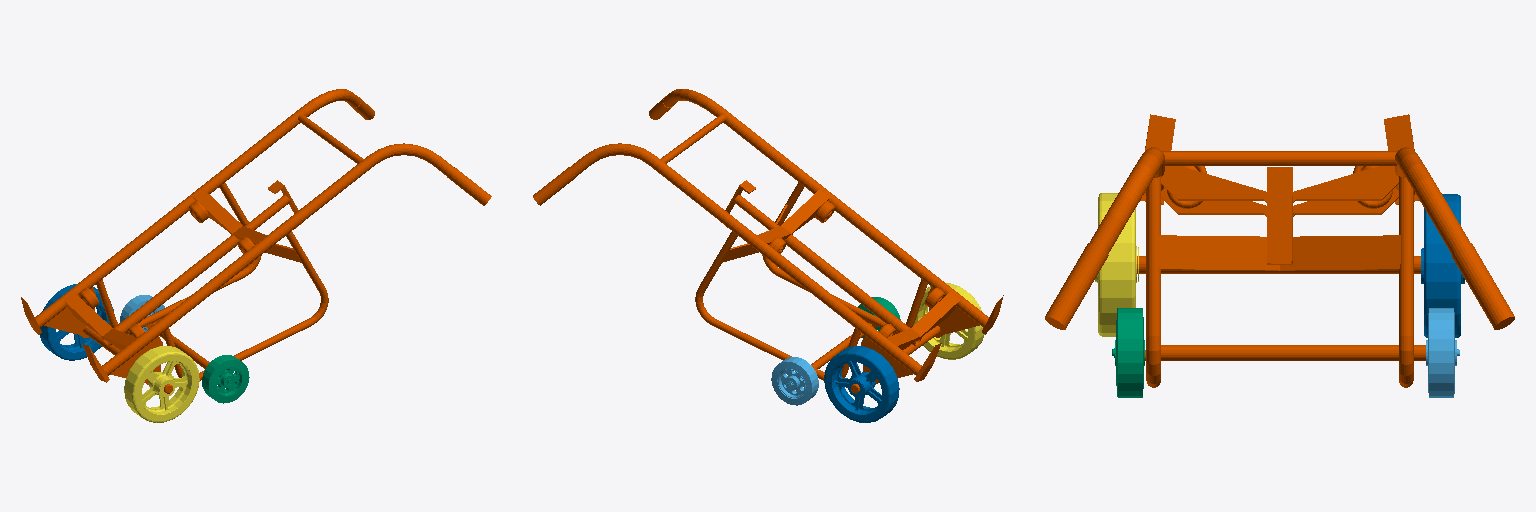
The robot description file, URDF, robot "partnet_564637510e807c32b229726a165222c0":
<?xml version="1.0" ?>
<robot name="partnet_564637510e807c32b229726a165222c0">
	<link name="base"/>
	<link name="link_0">
		<visual name="wheel-1">
			<origin xyz="0 0.20278317981185587 -0.022270345416668984"/>
			<geometry>
				<mesh filename="textured_objs/original-57.obj"/>
			</geometry>
		</visual>
		<visual name="wheel-1">
			<origin xyz="0 0.20278317981185587 -0.022270345416668984"/>
			<geometry>
				<mesh filename="textured_objs/original-54.obj"/>
			</geometry>
		</visual>
		<visual name="wheel-1">
			<origin xyz="0 0.20278317981185587 -0.022270345416668984"/>
			<geometry>
				<mesh filename="textured_objs/original-56.obj"/>
			</geometry>
		</visual>
		<collision>
			<origin xyz="0 0.20278317981185587 -0.022270345416668984"/>
			<geometry>
				<mesh filename="textured_objs/original-57.obj"/>
			</geometry>
		</collision>
		<collision>
			<origin xyz="0 0.20278317981185587 -0.022270345416668984"/>
			<geometry>
				<mesh filename="textured_objs/original-54.obj"/>
			</geometry>
		</collision>
		<collision>
			<origin xyz="0 0.20278317981185587 -0.022270345416668984"/>
			<geometry>
				<mesh filename="textured_objs/original-56.obj"/>
			</geometry>
		</collision>
	</link>
	<joint name="joint_0" type="continuous">
		<origin xyz="0 -0.20278317981185587 0.022270345416668984"/>
		<axis xyz="1 0 0"/>
		<child link="link_0"/>
		<parent link="link_4"/>
	</joint>
	<link name="link_1">
		<visual name="wheel-2">
			<origin xyz="0 0.20278317981185587 -0.022270345416668984"/>
			<geometry>
				<mesh filename="textured_objs/original-61.obj"/>
			</geometry>
		</visual>
		<visual name="wheel-2">
			<origin xyz="0 0.20278317981185587 -0.022270345416668984"/>
			<geometry>
				<mesh filename="textured_objs/original-59.obj"/>
			</geometry>
		</visual>
		<visual name="wheel-2">
			<origin xyz="0 0.20278317981185587 -0.022270345416668984"/>
			<geometry>
				<mesh filename="textured_objs/original-63.obj"/>
			</geometry>
		</visual>
		<visual name="wheel-2">
			<origin xyz="0 0.20278317981185587 -0.022270345416668984"/>
			<geometry>
				<mesh filename="textured_objs/original-64.obj"/>
			</geometry>
		</visual>
		<collision>
			<origin xyz="0 0.20278317981185587 -0.022270345416668984"/>
			<geometry>
				<mesh filename="textured_objs/original-61.obj"/>
			</geometry>
		</collision>
		<collision>
			<origin xyz="0 0.20278317981185587 -0.022270345416668984"/>
			<geometry>
				<mesh filename="textured_objs/original-59.obj"/>
			</geometry>
		</collision>
		<collision>
			<origin xyz="0 0.20278317981185587 -0.022270345416668984"/>
			<geometry>
				<mesh filename="textured_objs/original-63.obj"/>
			</geometry>
		</collision>
		<collision>
			<origin xyz="0 0.20278317981185587 -0.022270345416668984"/>
			<geometry>
				<mesh filename="textured_objs/original-64.obj"/>
			</geometry>
		</collision>
	</link>
	<joint name="joint_1" type="continuous">
		<origin xyz="0 -0.20278317981185587 0.022270345416668984"/>
		<axis xyz="1 0 0"/>
		<child link="link_1"/>
		<parent link="link_4"/>
	</joint>
	<link name="link_2">
		<visual name="wheel-3">
			<origin xyz="0 0.15423131700984627 -0.269820613138647"/>
			<geometry>
				<mesh filename="textured_objs/original-25.obj"/>
			</geometry>
		</visual>
		<visual name="wheel-3">
			<origin xyz="0 0.15423131700984627 -0.269820613138647"/>
			<geometry>
				<mesh filename="textured_objs/original-24.obj"/>
			</geometry>
		</visual>
		<visual name="wheel-3">
			<origin xyz="0 0.15423131700984627 -0.269820613138647"/>
			<geometry>
				<mesh filename="textured_objs/original-23.obj"/>
			</geometry>
		</visual>
		<visual name="wheel-3">
			<origin xyz="0 0.15423131700984627 -0.269820613138647"/>
			<geometry>
				<mesh filename="textured_objs/original-22.obj"/>
			</geometry>
		</visual>
		<collision>
			<origin xyz="0 0.15423131700984627 -0.269820613138647"/>
			<geometry>
				<mesh filename="textured_objs/original-25.obj"/>
			</geometry>
		</collision>
		<collision>
			<origin xyz="0 0.15423131700984627 -0.269820613138647"/>
			<geometry>
				<mesh filename="textured_objs/original-24.obj"/>
			</geometry>
		</collision>
		<collision>
			<origin xyz="0 0.15423131700984627 -0.269820613138647"/>
			<geometry>
				<mesh filename="textured_objs/original-23.obj"/>
			</geometry>
		</collision>
		<collision>
			<origin xyz="0 0.15423131700984627 -0.269820613138647"/>
			<geometry>
				<mesh filename="textured_objs/original-22.obj"/>
			</geometry>
		</collision>
	</link>
	<joint name="joint_2" type="continuous">
		<origin xyz="0 -0.15423131700984627 0.269820613138647"/>
		<axis xyz="1 0 0"/>
		<child link="link_2"/>
		<parent link="link_4"/>
	</joint>
	<link name="link_3">
		<visual name="wheel-4">
			<origin xyz="0 0.15423131700984627 -0.269820613138647"/>
			<geometry>
				<mesh filename="textured_objs/original-19.obj"/>
			</geometry>
		</visual>
		<visual name="wheel-4">
			<origin xyz="0 0.15423131700984627 -0.269820613138647"/>
			<geometry>
				<mesh filename="textured_objs/original-18.obj"/>
			</geometry>
		</visual>
		<visual name="wheel-4">
			<origin xyz="0 0.15423131700984627 -0.269820613138647"/>
			<geometry>
				<mesh filename="textured_objs/original-16.obj"/>
			</geometry>
		</visual>
		<visual name="wheel-4">
			<origin xyz="0 0.15423131700984627 -0.269820613138647"/>
			<geometry>
				<mesh filename="textured_objs/original-17.obj"/>
			</geometry>
		</visual>
		<collision>
			<origin xyz="0 0.15423131700984627 -0.269820613138647"/>
			<geometry>
				<mesh filename="textured_objs/original-19.obj"/>
			</geometry>
		</collision>
		<collision>
			<origin xyz="0 0.15423131700984627 -0.269820613138647"/>
			<geometry>
				<mesh filename="textured_objs/original-18.obj"/>
			</geometry>
		</collision>
		<collision>
			<origin xyz="0 0.15423131700984627 -0.269820613138647"/>
			<geometry>
				<mesh filename="textured_objs/original-16.obj"/>
			</geometry>
		</collision>
		<collision>
			<origin xyz="0 0.15423131700984627 -0.269820613138647"/>
			<geometry>
				<mesh filename="textured_objs/original-17.obj"/>
			</geometry>
		</collision>
	</link>
	<joint name="joint_3" type="continuous">
		<origin xyz="0 -0.15423131700984627 0.269820613138647"/>
		<axis xyz="1 0 0"/>
		<child link="link_3"/>
		<parent link="link_4"/>
	</joint>
	<link name="link_4">
		<visual name="base_body-5">
			<origin xyz="0 0 0"/>
			<geometry>
				<mesh filename="textured_objs/original-29.obj"/>
			</geometry>
		</visual>
		<visual name="base_body-5">
			<origin xyz="0 0 0"/>
			<geometry>
				<mesh filename="textured_objs/original-36.obj"/>
			</geometry>
		</visual>
		<visual name="base_body-5">
			<origin xyz="0 0 0"/>
			<geometry>
				<mesh filename="textured_objs/original-28.obj"/>
			</geometry>
		</visual>
		<visual name="base_body-5">
			<origin xyz="0 0 0"/>
			<geometry>
				<mesh filename="textured_objs/original-43.obj"/>
			</geometry>
		</visual>
		<visual name="base_body-5">
			<origin xyz="0 0 0"/>
			<geometry>
				<mesh filename="textured_objs/original-71.obj"/>
			</geometry>
		</visual>
		<visual name="base_body-5">
			<origin xyz="0 0 0"/>
			<geometry>
				<mesh filename="textured_objs/original-52.obj"/>
			</geometry>
		</visual>
		<visual name="base_body-5">
			<origin xyz="0 0 0"/>
			<geometry>
				<mesh filename="textured_objs/original-26.obj"/>
			</geometry>
		</visual>
		<visual name="base_body-5">
			<origin xyz="0 0 0"/>
			<geometry>
				<mesh filename="textured_objs/original-4.obj"/>
			</geometry>
		</visual>
		<visual name="base_body-5">
			<origin xyz="0 0 0"/>
			<geometry>
				<mesh filename="textured_objs/original-3.obj"/>
			</geometry>
		</visual>
		<visual name="base_body-5">
			<origin xyz="0 0 0"/>
			<geometry>
				<mesh filename="textured_objs/original-65.obj"/>
			</geometry>
		</visual>
		<visual name="base_body-5">
			<origin xyz="0 0 0"/>
			<geometry>
				<mesh filename="textured_objs/original-33.obj"/>
			</geometry>
		</visual>
		<visual name="base_body-5">
			<origin xyz="0 0 0"/>
			<geometry>
				<mesh filename="textured_objs/original-44.obj"/>
			</geometry>
		</visual>
		<visual name="base_body-5">
			<origin xyz="0 0 0"/>
			<geometry>
				<mesh filename="textured_objs/original-8.obj"/>
			</geometry>
		</visual>
		<visual name="base_body-5">
			<origin xyz="0 0 0"/>
			<geometry>
				<mesh filename="textured_objs/original-13.obj"/>
			</geometry>
		</visual>
		<visual name="base_body-5">
			<origin xyz="0 0 0"/>
			<geometry>
				<mesh filename="textured_objs/original-9.obj"/>
			</geometry>
		</visual>
		<visual name="base_body-5">
			<origin xyz="0 0 0"/>
			<geometry>
				<mesh filename="textured_objs/original-45.obj"/>
			</geometry>
		</visual>
		<visual name="base_body-5">
			<origin xyz="0 0 0"/>
			<geometry>
				<mesh filename="textured_objs/original-35.obj"/>
			</geometry>
		</visual>
		<visual name="base_body-5">
			<origin xyz="0 0 0"/>
			<geometry>
				<mesh filename="textured_objs/original-39.obj"/>
			</geometry>
		</visual>
		<visual name="base_body-5">
			<origin xyz="0 0 0"/>
			<geometry>
				<mesh filename="textured_objs/original-27.obj"/>
			</geometry>
		</visual>
		<visual name="base_body-5">
			<origin xyz="0 0 0"/>
			<geometry>
				<mesh filename="textured_objs/original-51.obj"/>
			</geometry>
		</visual>
		<visual name="base_body-5">
			<origin xyz="0 0 0"/>
			<geometry>
				<mesh filename="textured_objs/original-50.obj"/>
			</geometry>
		</visual>
		<visual name="base_body-5">
			<origin xyz="0 0 0"/>
			<geometry>
				<mesh filename="textured_objs/original-66.obj"/>
			</geometry>
		</visual>
		<visual name="base_body-5">
			<origin xyz="0 0 0"/>
			<geometry>
				<mesh filename="textured_objs/original-67.obj"/>
			</geometry>
		</visual>
		<visual name="base_body-5">
			<origin xyz="0 0 0"/>
			<geometry>
				<mesh filename="textured_objs/original-11.obj"/>
			</geometry>
		</visual>
		<visual name="base_body-5">
			<origin xyz="0 0 0"/>
			<geometry>
				<mesh filename="textured_objs/original-68.obj"/>
			</geometry>
		</visual>
		<visual name="base_body-5">
			<origin xyz="0 0 0"/>
			<geometry>
				<mesh filename="textured_objs/original-70.obj"/>
			</geometry>
		</visual>
		<visual name="base_body-5">
			<origin xyz="0 0 0"/>
			<geometry>
				<mesh filename="textured_objs/original-12.obj"/>
			</geometry>
		</visual>
		<visual name="base_body-5">
			<origin xyz="0 0 0"/>
			<geometry>
				<mesh filename="textured_objs/original-42.obj"/>
			</geometry>
		</visual>
		<visual name="base_body-5">
			<origin xyz="0 0 0"/>
			<geometry>
				<mesh filename="textured_objs/original-32.obj"/>
			</geometry>
		</visual>
		<visual name="base_body-5">
			<origin xyz="0 0 0"/>
			<geometry>
				<mesh filename="textured_objs/original-47.obj"/>
			</geometry>
		</visual>
		<visual name="base_body-5">
			<origin xyz="0 0 0"/>
			<geometry>
				<mesh filename="textured_objs/original-40.obj"/>
			</geometry>
		</visual>
		<visual name="base_body-5">
			<origin xyz="0 0 0"/>
			<geometry>
				<mesh filename="textured_objs/original-46.obj"/>
			</geometry>
		</visual>
		<collision>
			<origin xyz="0 0 0"/>
			<geometry>
				<mesh filename="textured_objs/original-29.obj"/>
			</geometry>
		</collision>
		<collision>
			<origin xyz="0 0 0"/>
			<geometry>
				<mesh filename="textured_objs/original-36.obj"/>
			</geometry>
		</collision>
		<collision>
			<origin xyz="0 0 0"/>
			<geometry>
				<mesh filename="textured_objs/original-28.obj"/>
			</geometry>
		</collision>
		<collision>
			<origin xyz="0 0 0"/>
			<geometry>
				<mesh filename="textured_objs/original-43.obj"/>
			</geometry>
		</collision>
		<collision>
			<origin xyz="0 0 0"/>
			<geometry>
				<mesh filename="textured_objs/original-71.obj"/>
			</geometry>
		</collision>
		<collision>
			<origin xyz="0 0 0"/>
			<geometry>
				<mesh filename="textured_objs/original-52.obj"/>
			</geometry>
		</collision>
		<collision>
			<origin xyz="0 0 0"/>
			<geometry>
				<mesh filename="textured_objs/original-26.obj"/>
			</geometry>
		</collision>
		<collision>
			<origin xyz="0 0 0"/>
			<geometry>
				<mesh filename="textured_objs/original-4.obj"/>
			</geometry>
		</collision>
		<collision>
			<origin xyz="0 0 0"/>
			<geometry>
				<mesh filename="textured_objs/original-3.obj"/>
			</geometry>
		</collision>
		<collision>
			<origin xyz="0 0 0"/>
			<geometry>
				<mesh filename="textured_objs/original-65.obj"/>
			</geometry>
		</collision>
		<collision>
			<origin xyz="0 0 0"/>
			<geometry>
				<mesh filename="textured_objs/original-33.obj"/>
			</geometry>
		</collision>
		<collision>
			<origin xyz="0 0 0"/>
			<geometry>
				<mesh filename="textured_objs/original-44.obj"/>
			</geometry>
		</collision>
		<collision>
			<origin xyz="0 0 0"/>
			<geometry>
				<mesh filename="textured_objs/original-8.obj"/>
			</geometry>
		</collision>
		<collision>
			<origin xyz="0 0 0"/>
			<geometry>
				<mesh filename="textured_objs/original-13.obj"/>
			</geometry>
		</collision>
		<collision>
			<origin xyz="0 0 0"/>
			<geometry>
				<mesh filename="textured_objs/original-9.obj"/>
			</geometry>
		</collision>
		<collision>
			<origin xyz="0 0 0"/>
			<geometry>
				<mesh filename="textured_objs/original-45.obj"/>
			</geometry>
		</collision>
		<collision>
			<origin xyz="0 0 0"/>
			<geometry>
				<mesh filename="textured_objs/original-35.obj"/>
			</geometry>
		</collision>
		<collision>
			<origin xyz="0 0 0"/>
			<geometry>
				<mesh filename="textured_objs/original-39.obj"/>
			</geometry>
		</collision>
		<collision>
			<origin xyz="0 0 0"/>
			<geometry>
				<mesh filename="textured_objs/original-27.obj"/>
			</geometry>
		</collision>
		<collision>
			<origin xyz="0 0 0"/>
			<geometry>
				<mesh filename="textured_objs/original-51.obj"/>
			</geometry>
		</collision>
		<collision>
			<origin xyz="0 0 0"/>
			<geometry>
				<mesh filename="textured_objs/original-50.obj"/>
			</geometry>
		</collision>
		<collision>
			<origin xyz="0 0 0"/>
			<geometry>
				<mesh filename="textured_objs/original-66.obj"/>
			</geometry>
		</collision>
		<collision>
			<origin xyz="0 0 0"/>
			<geometry>
				<mesh filename="textured_objs/original-67.obj"/>
			</geometry>
		</collision>
		<collision>
			<origin xyz="0 0 0"/>
			<geometry>
				<mesh filename="textured_objs/original-11.obj"/>
			</geometry>
		</collision>
		<collision>
			<origin xyz="0 0 0"/>
			<geometry>
				<mesh filename="textured_objs/original-68.obj"/>
			</geometry>
		</collision>
		<collision>
			<origin xyz="0 0 0"/>
			<geometry>
				<mesh filename="textured_objs/original-70.obj"/>
			</geometry>
		</collision>
		<collision>
			<origin xyz="0 0 0"/>
			<geometry>
				<mesh filename="textured_objs/original-12.obj"/>
			</geometry>
		</collision>
		<collision>
			<origin xyz="0 0 0"/>
			<geometry>
				<mesh filename="textured_objs/original-42.obj"/>
			</geometry>
		</collision>
		<collision>
			<origin xyz="0 0 0"/>
			<geometry>
				<mesh filename="textured_objs/original-32.obj"/>
			</geometry>
		</collision>
		<collision>
			<origin xyz="0 0 0"/>
			<geometry>
				<mesh filename="textured_objs/original-47.obj"/>
			</geometry>
		</collision>
		<collision>
			<origin xyz="0 0 0"/>
			<geometry>
				<mesh filename="textured_objs/original-40.obj"/>
			</geometry>
		</collision>
		<collision>
			<origin xyz="0 0 0"/>
			<geometry>
				<mesh filename="textured_objs/original-46.obj"/>
			</geometry>
		</collision>
	</link>
	<joint name="joint_4" type="fixed">
		<origin rpy="1.570796326794897 0 -1.570796326794897" xyz="0 0 0"/>
		<child link="link_4"/>
		<parent link="base"/>
	</joint>
</robot>

--- Render facts (derived) ---
3 views of the same robot in one strip: view 1: azimuth 30°, elevation 25°; view 2: azimuth 150°, elevation 25°; view 3: azimuth 270°, elevation 25° (orthographic).
Robot: partnet_564637510e807c32b229726a165222c0 — 6 links, 5 joints (4 continuous, 1 fixed); root link base; default pose: all joints at 0.
Links seen in each view (by area): view 1: link_4, link_2, link_1, link_3; view 2: link_4, link_3, link_0, link_2; view 3: link_4, link_2, link_3, link_1, link_0.
Boxes of the visible links, <box> form: link_4: <box>21,89,491,393</box>; link_2: <box>124,346,199,422</box>; link_1: <box>202,355,249,403</box>; link_3: <box>40,284,113,360</box>; link_4: <box>533,89,1003,393</box>; link_3: <box>824,346,899,422</box>; link_0: <box>771,357,818,405</box>; link_2: <box>911,283,984,359</box>; link_4: <box>1045,114,1514,387</box>; link_2: <box>1095,193,1138,336</box>; link_3: <box>1421,194,1464,337</box>; link_1: <box>1112,308,1144,397</box>; link_0: <box>1426,308,1459,397</box>.
Size in the robot's own frame: 1.4 by 0.7942 by 0.7403 metres.
Meshes: 47 distinct files referenced, 47 mesh visuals loaded (47 OBJ).